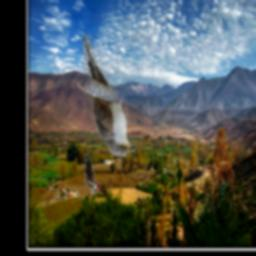Cuckoo: (81, 36, 135, 158)
Woodpecker: (85, 147, 101, 196)
